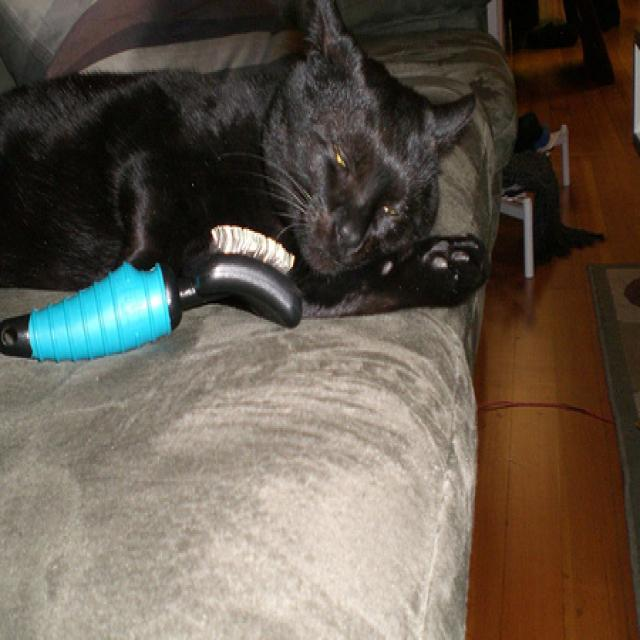Bombay: (0, 0, 495, 320)
